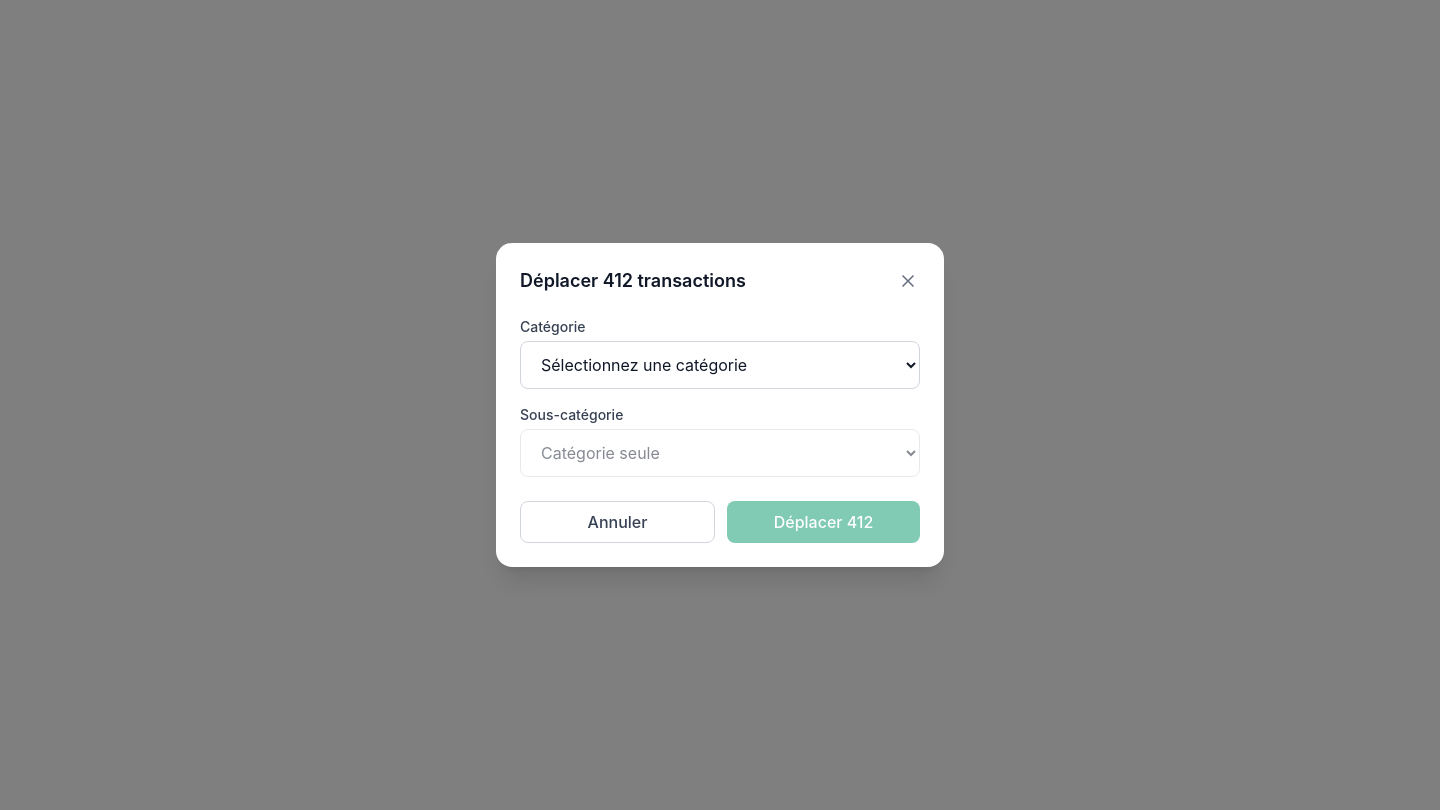
BulkCategoryModal › says they will be replaced when one is picked
This screenshot has width=1440, height=810.
Select "Alimentation" in the dropdown with test id "bulk-category-select". click: (720,365)
box: [520,341,920,389]
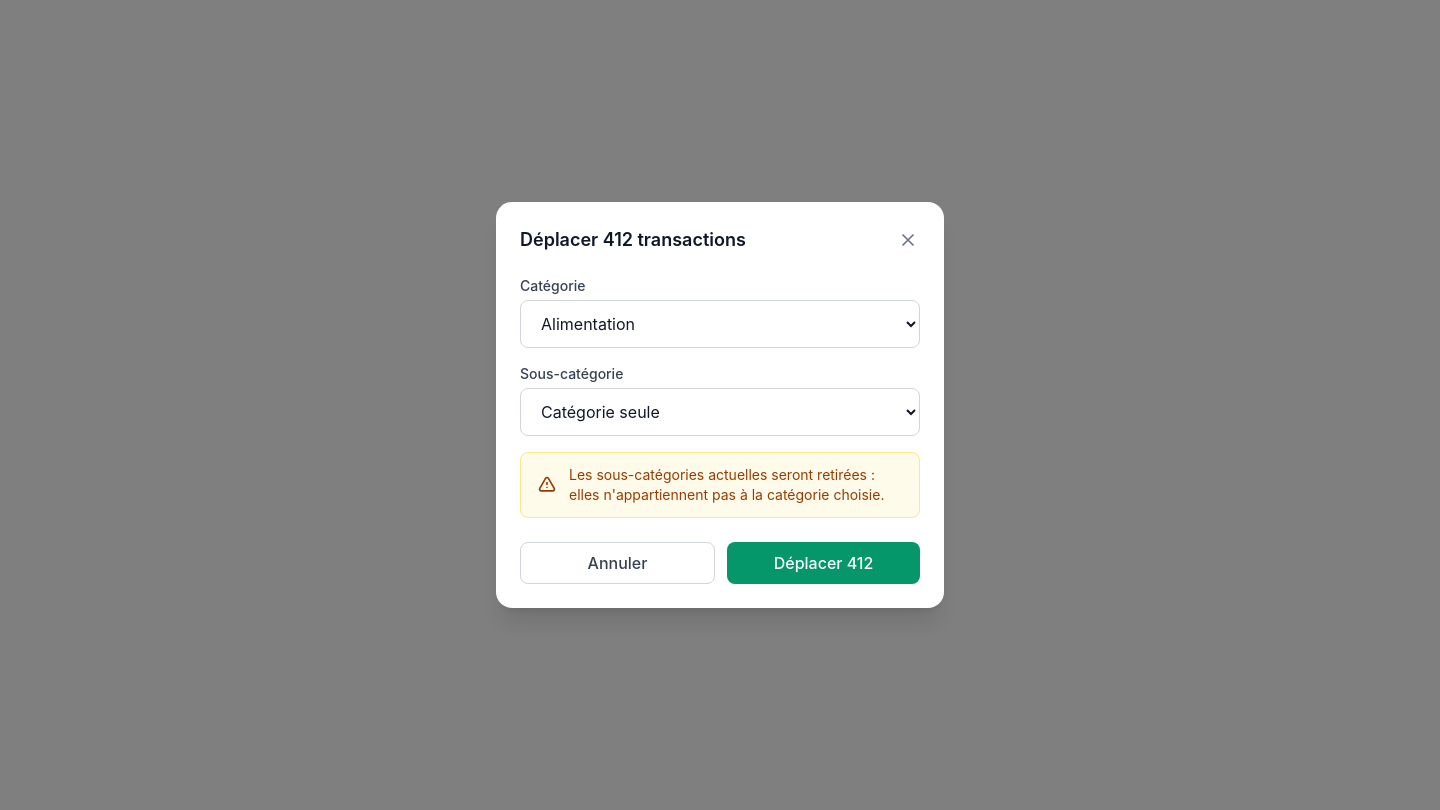
Select "Courses" in the dropdown with test id "bulk-subcategory-select". click: (720,412)
box: [520,388,920,436]
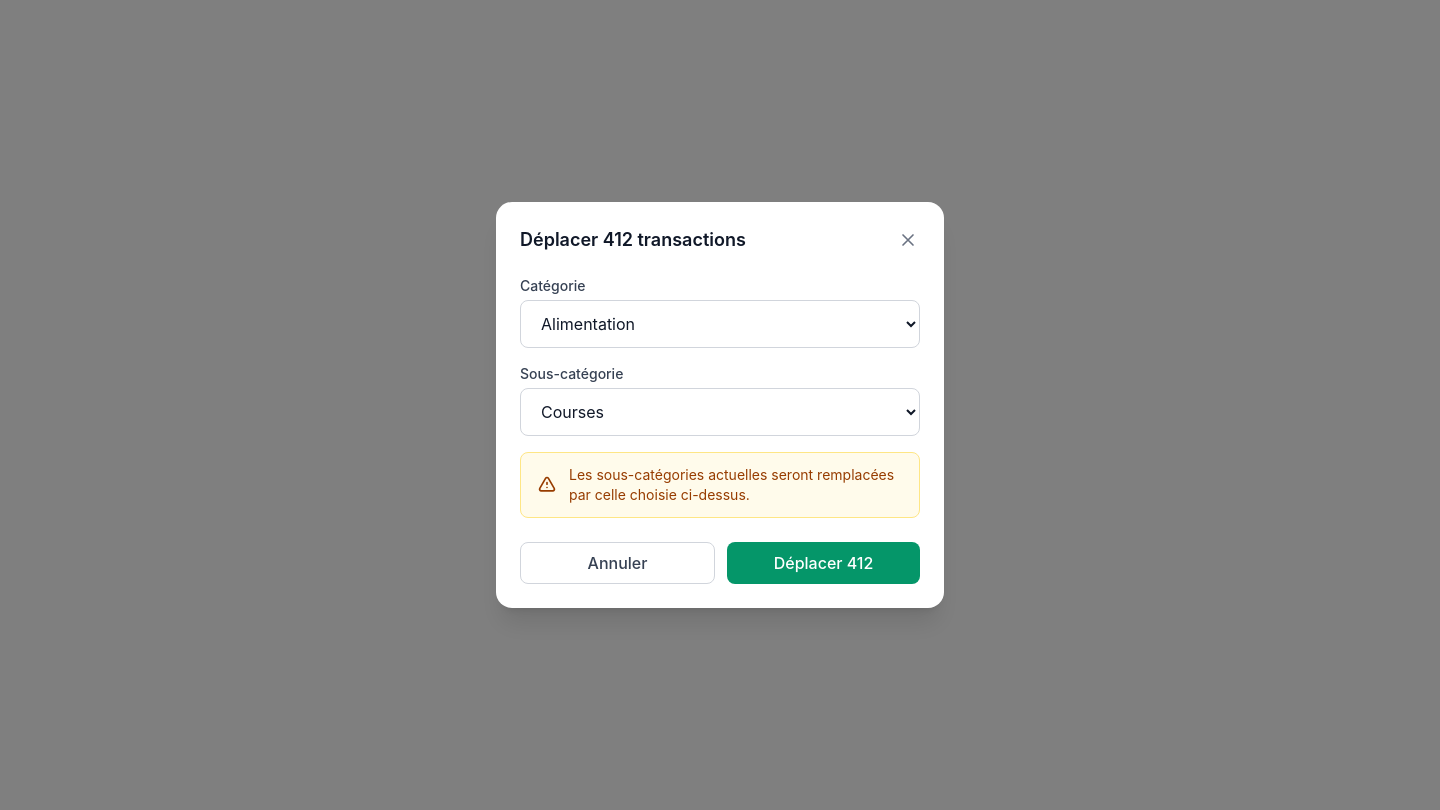
Result: the message with test id "bulk-subcategory-warning" shows "remplacées" at [569,466,894,503]
